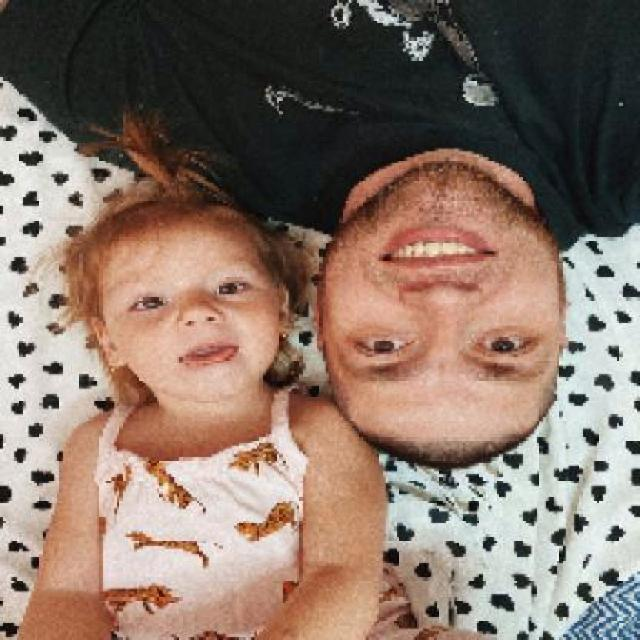child: (17, 105, 414, 638)
